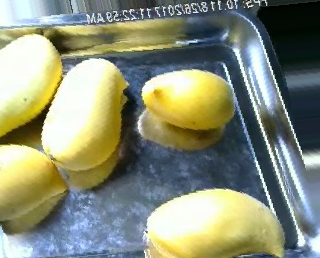Mango: (39, 56, 131, 170), (145, 183, 286, 257), (1, 30, 63, 138), (141, 67, 240, 131), (0, 140, 66, 223)
